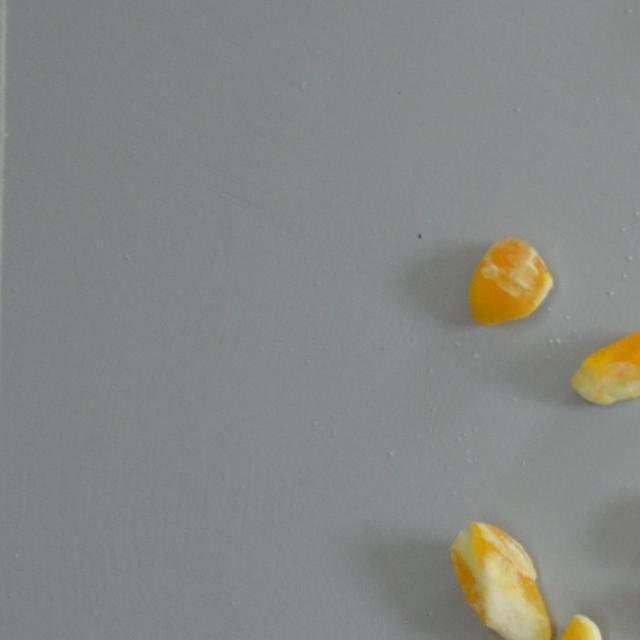pelicula: (446, 518, 554, 640), (467, 237, 553, 324), (566, 324, 640, 408), (532, 614, 607, 640)
